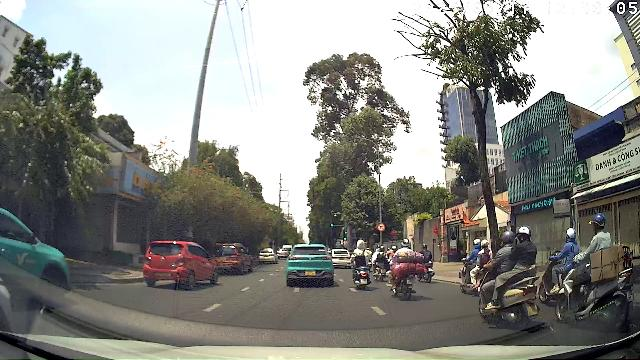123b-cam-re-phai: (377, 223, 385, 231)
